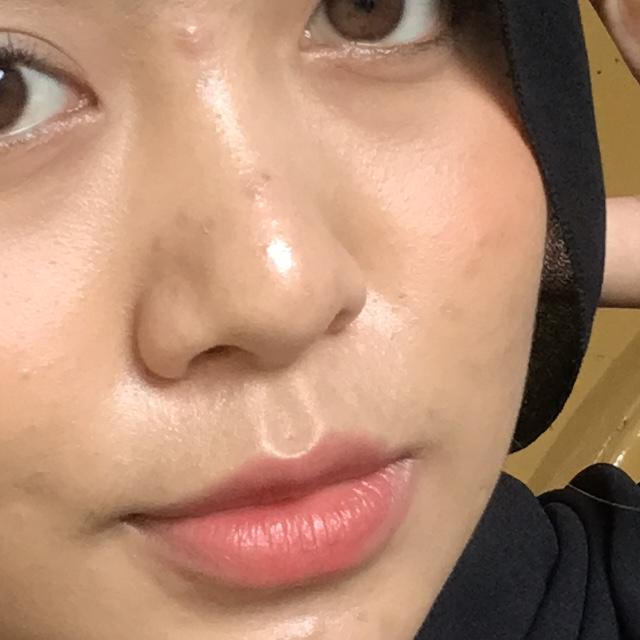mendengar: (390, 0, 640, 490)
